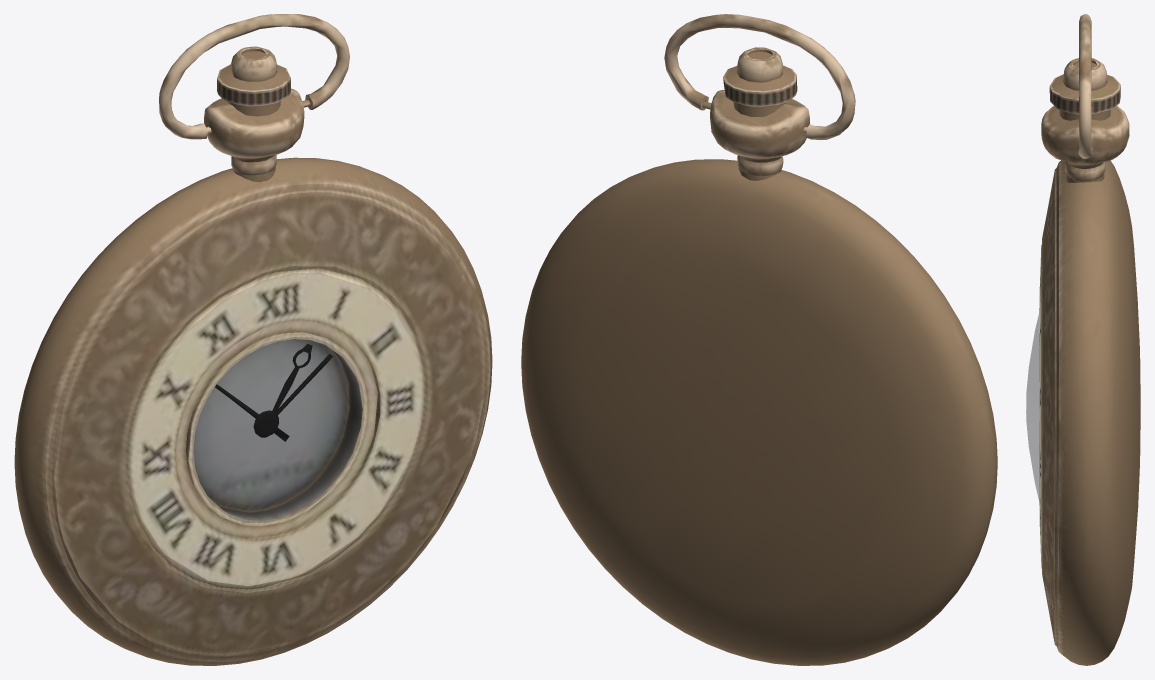
The model's file is vintage_pocket_watch.glb.
3 views of the same model, side by side, from view 1: azimuth 30°, elevation 25°; view 2: azimuth 150°, elevation 25°; view 3: azimuth 270°, elevation 25° (orthographic). The views are drawn at different scales.
Visible parts, largest first — view 1: vintage_pocket_watch; view 2: vintage_pocket_watch; view 3: vintage_pocket_watch.
Boxes of the visible parts, box(x1,y1,x2,y2) form: vintage_pocket_watch: box(14, 14, 492, 665); vintage_pocket_watch: box(521, 14, 997, 665); vintage_pocket_watch: box(1026, 14, 1140, 665).
Bounding box in the file's own units: 0.0613 × 0.0799 × 0.0135.
Materials: 3 (1 with a texture image).
